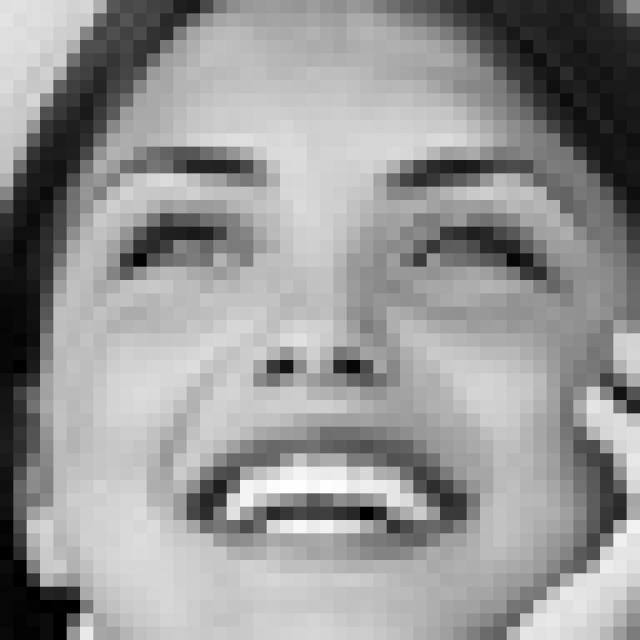happy: (84, 142, 591, 572)
